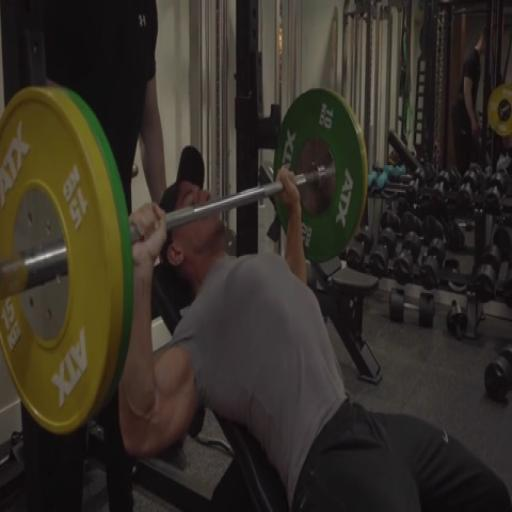exercise: (116, 144, 511, 510)
